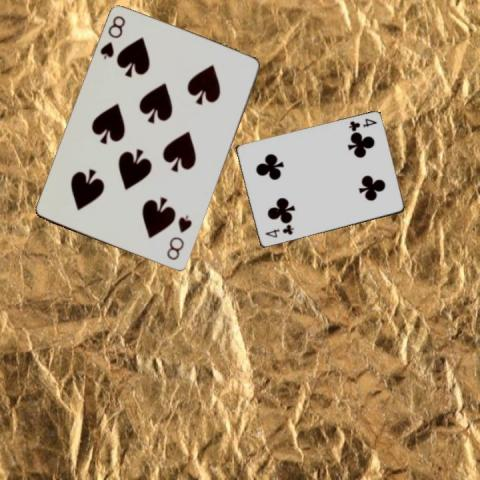4c: (262, 222, 295, 239), (345, 116, 378, 133)
8s: (163, 211, 194, 263), (98, 13, 128, 61)
